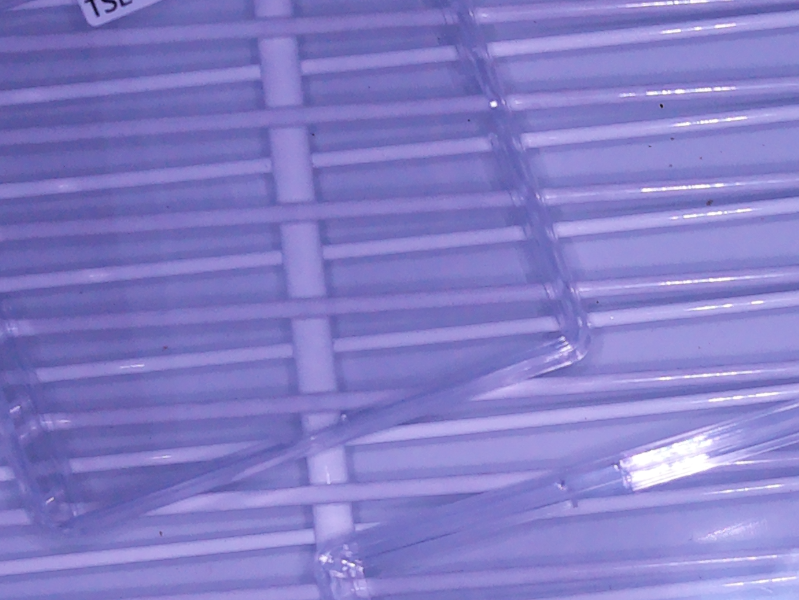plate: (1, 1, 594, 545), (311, 397, 799, 600)
